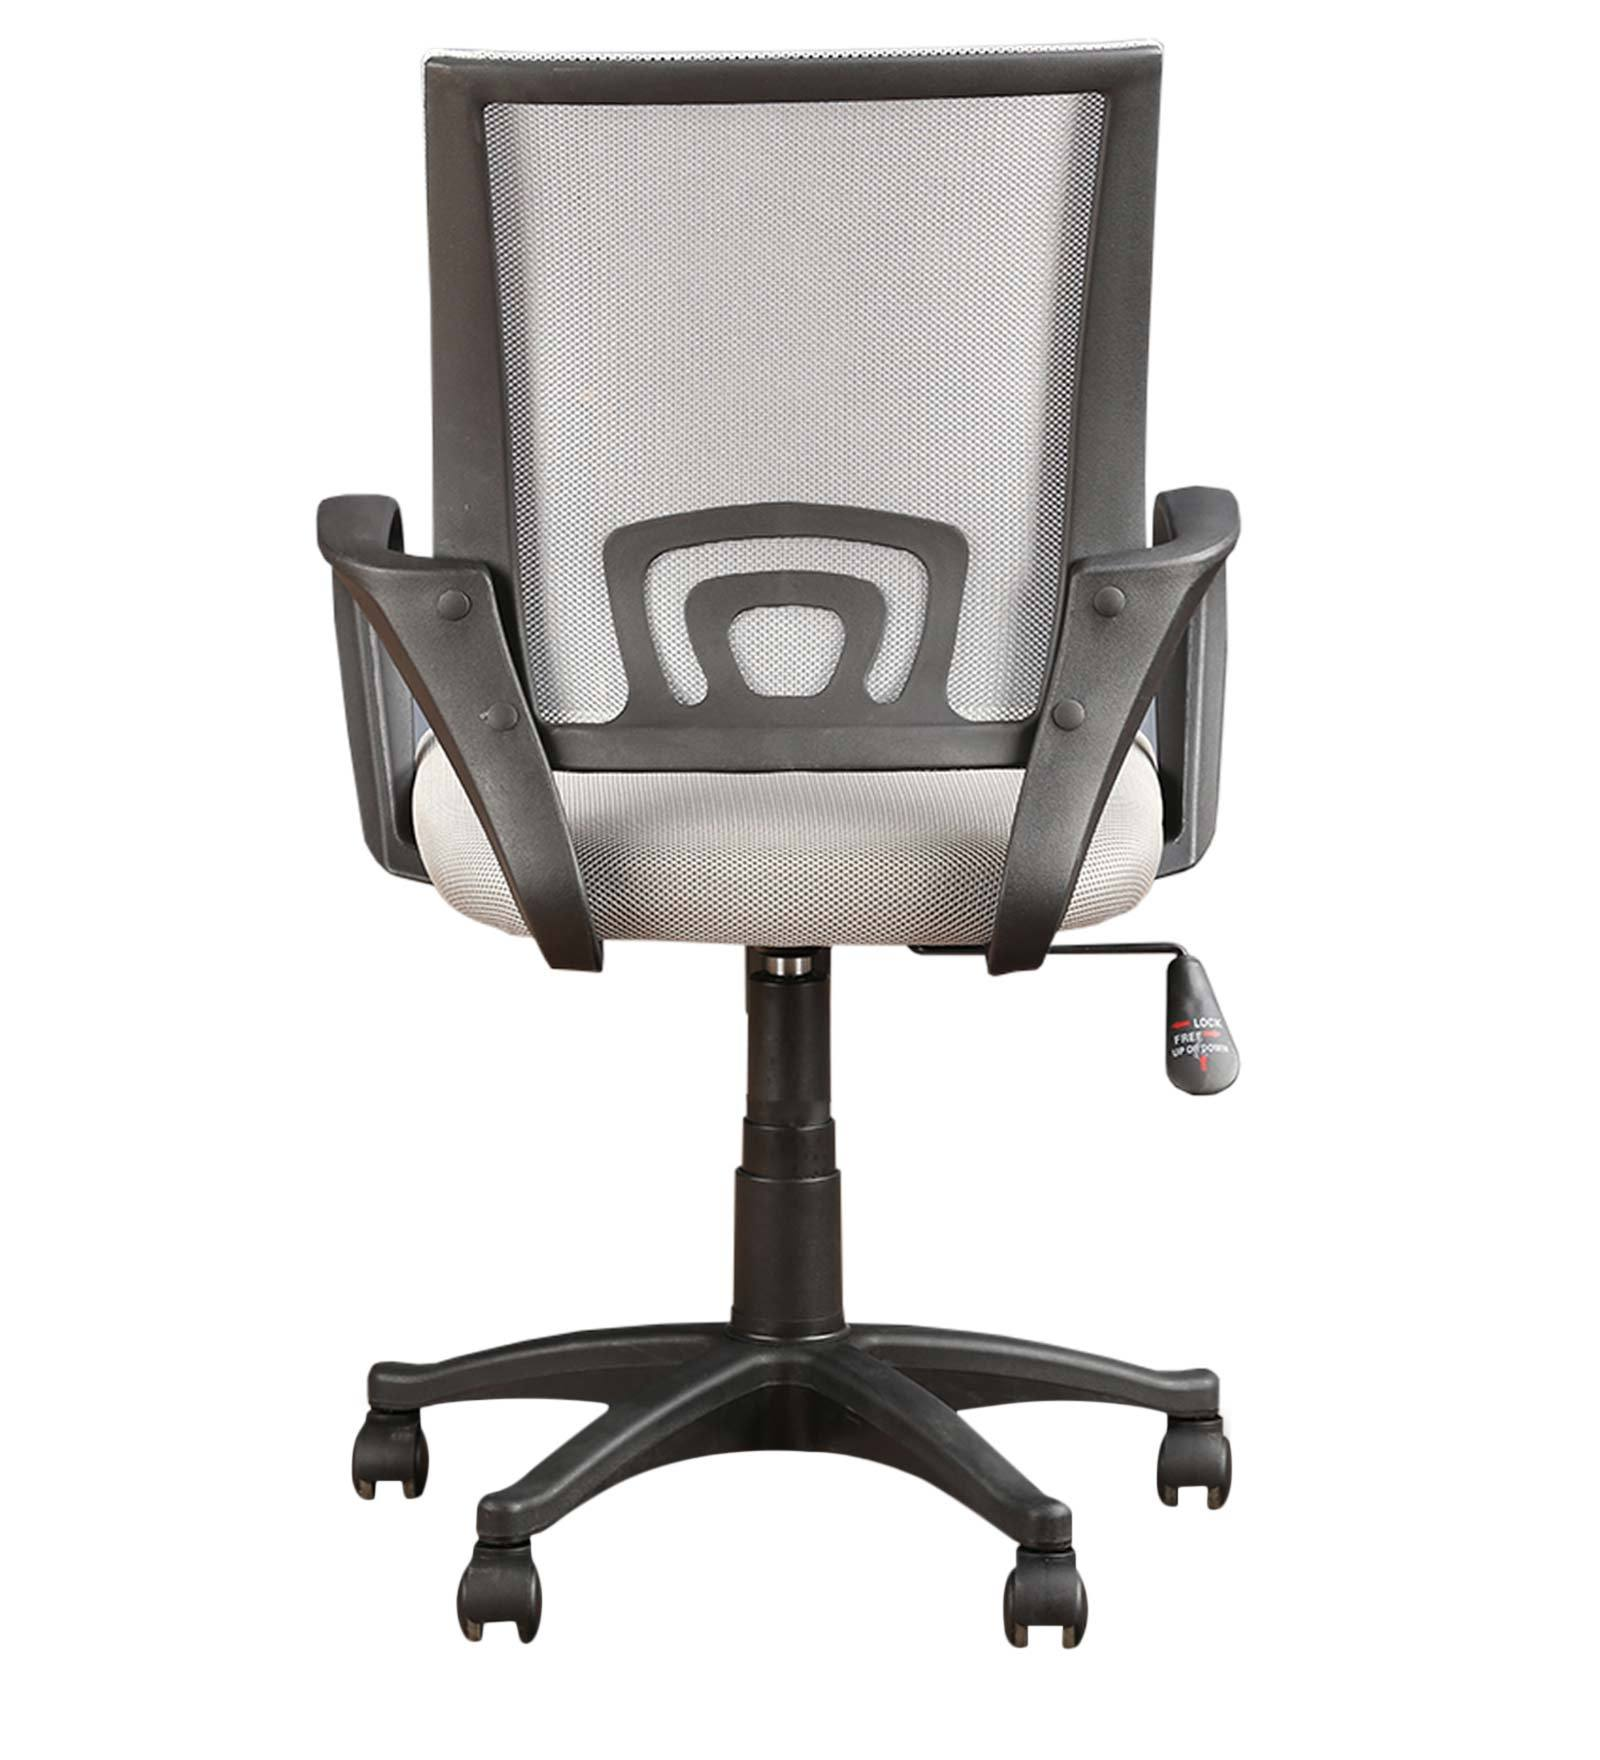Bolton Low Back Ergonomic Chair in Grey Colour by HomeTown: (225, 23, 1336, 1688)
